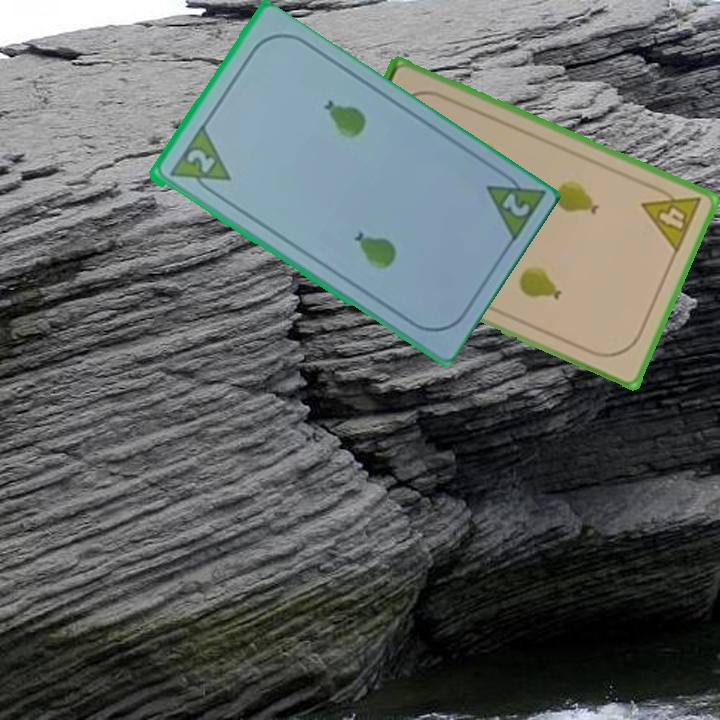2p: (481, 164, 546, 247), (165, 124, 233, 201)
4p: (638, 180, 705, 256)
